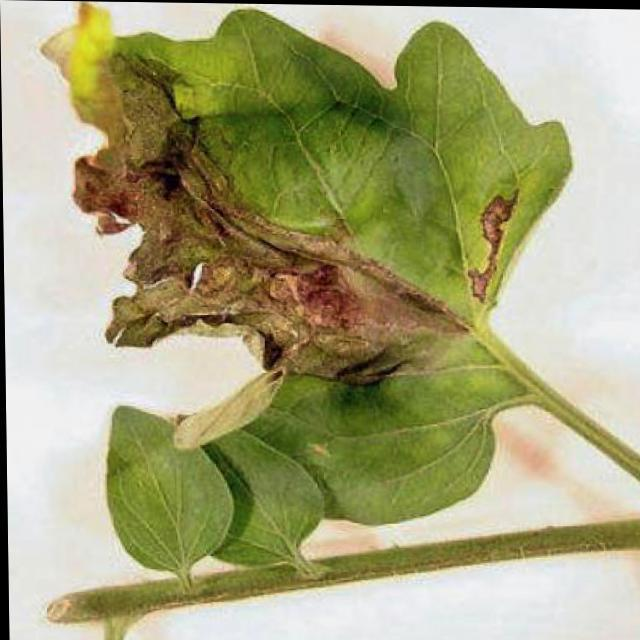Tomato mosaic virus leaf: (12, 2, 570, 379)
